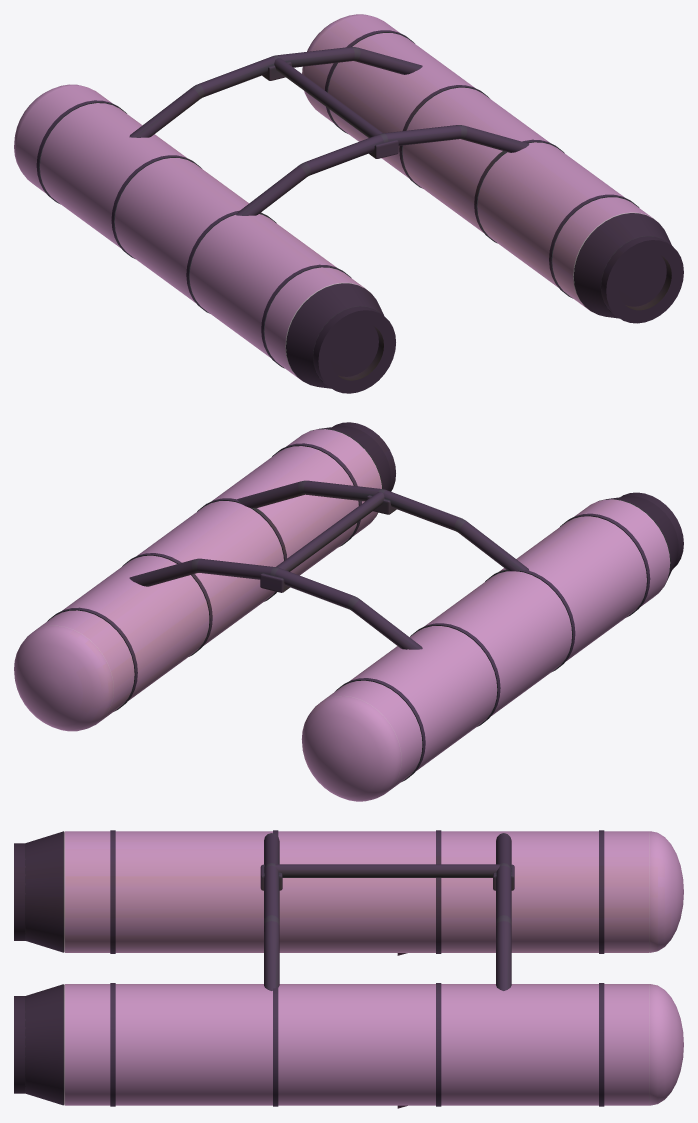
File: booster.glb
3 renders of one model, top to bottom at view 1: azimuth 30°, elevation 25°; view 2: azimuth 150°, elevation 25°; view 3: azimuth 270°, elevation 25°, orthographic. The views are drawn at different scales.
Visible parts, largest first — view 1: booster_pods__m; view 2: booster_pods__m; view 3: booster_pods__m.
Part boxes in pixels (x1,y1,x2,y2): booster_pods__m: [14, 14, 683, 393]; booster_pods__m: [14, 422, 683, 801]; booster_pods__m: [14, 830, 683, 1106].
Size of the model in its own units: 19.88 by 7.51 by 27.42.
